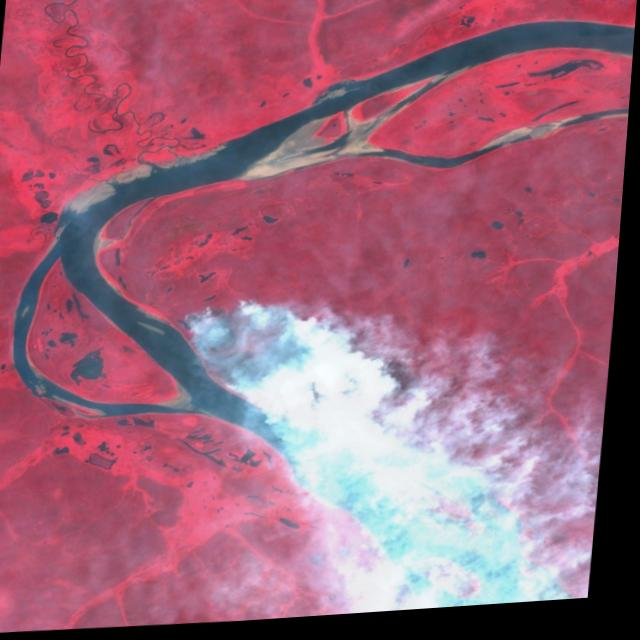fire: (175, 289, 367, 435)
